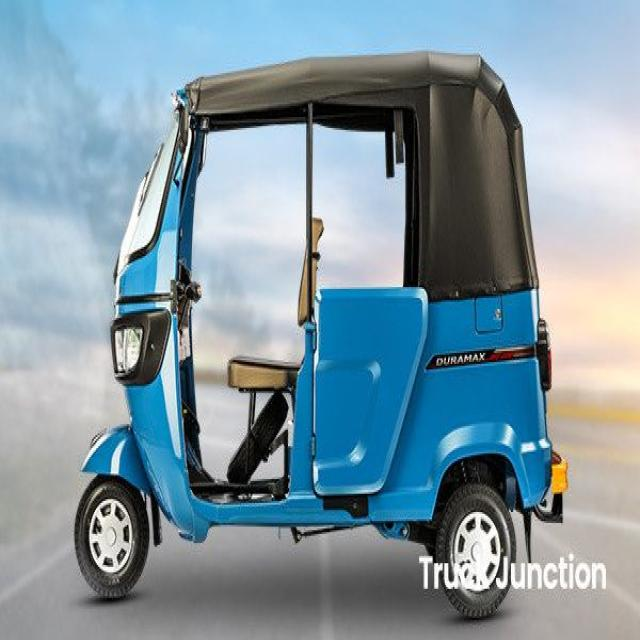autorickshaw: (73, 51, 569, 622)
